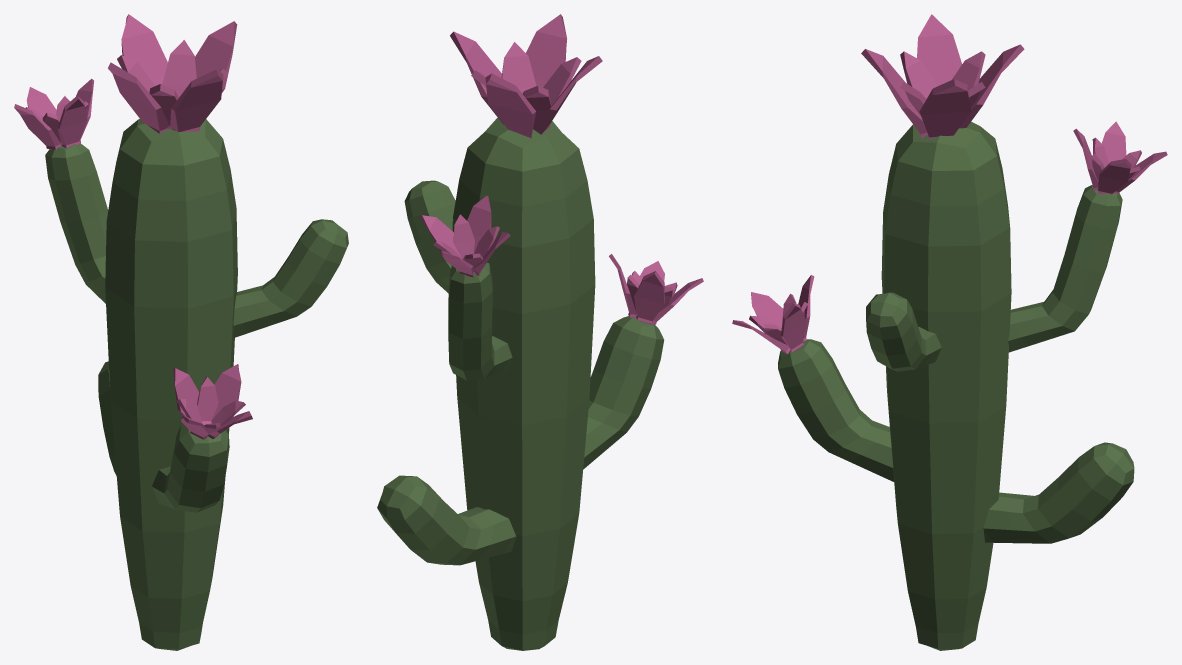
The model's file is Cactus_high.glb.
3 renders of one model, left to right at view 1: azimuth 30°, elevation 25°; view 2: azimuth 150°, elevation 25°; view 3: azimuth 270°, elevation 25°, orthographic.
Parts seen in each view (by area): view 1: CactusFlowers_2; view 2: CactusFlowers_2; view 3: CactusFlowers_2.
Part boxes in pixels (x1,y1,x2,y2): CactusFlowers_2: (14, 14, 348, 650); CactusFlowers_2: (377, 14, 703, 650); CactusFlowers_2: (732, 14, 1167, 650).
Bounding box in the file's own units: 0.7654 × 1.94 × 1.28.
